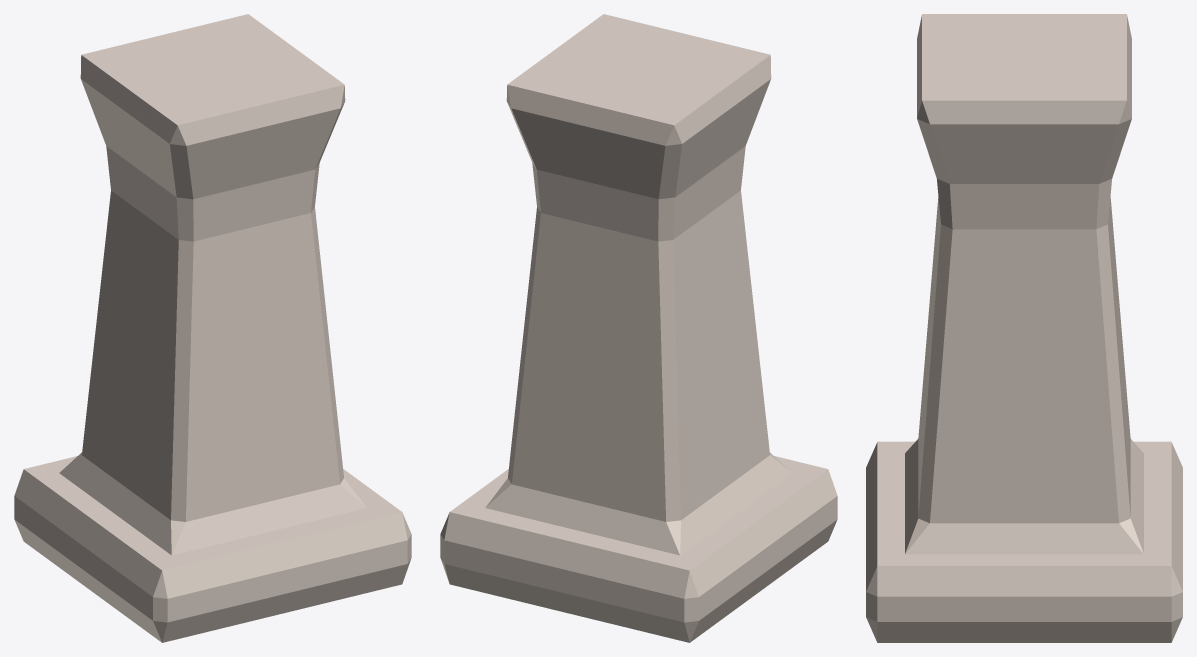
The model's file is steleblend.fbx.
The picture shows the model from 3 angles, left to right: view 1: azimuth 30°, elevation 25°; view 2: azimuth 150°, elevation 25°; view 3: azimuth 270°, elevation 25°; orthographic projection. The views are drawn at different scales.
Parts seen in each view (by area): view 1: Cube.002; view 2: Cube.002; view 3: Cube.002.
Boxes of the visible parts, <box> form: Cube.002: <box>14,14,411,642</box>; Cube.002: <box>440,14,837,642</box>; Cube.002: <box>866,14,1182,642</box>.
Size of the model in its own units: 55.71 by 102 by 55.71.
